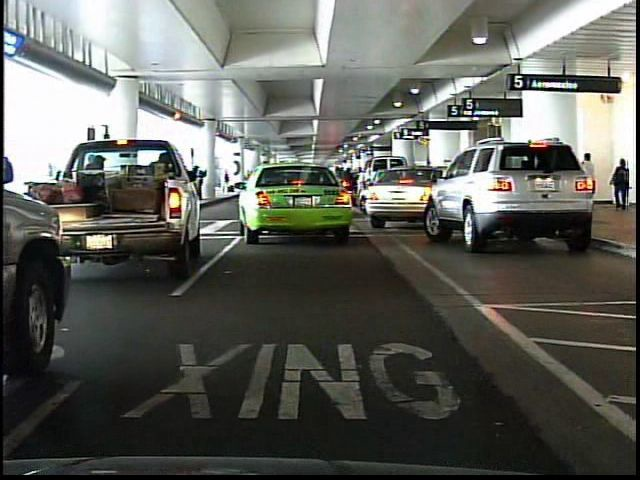person: (611, 158, 636, 215)
